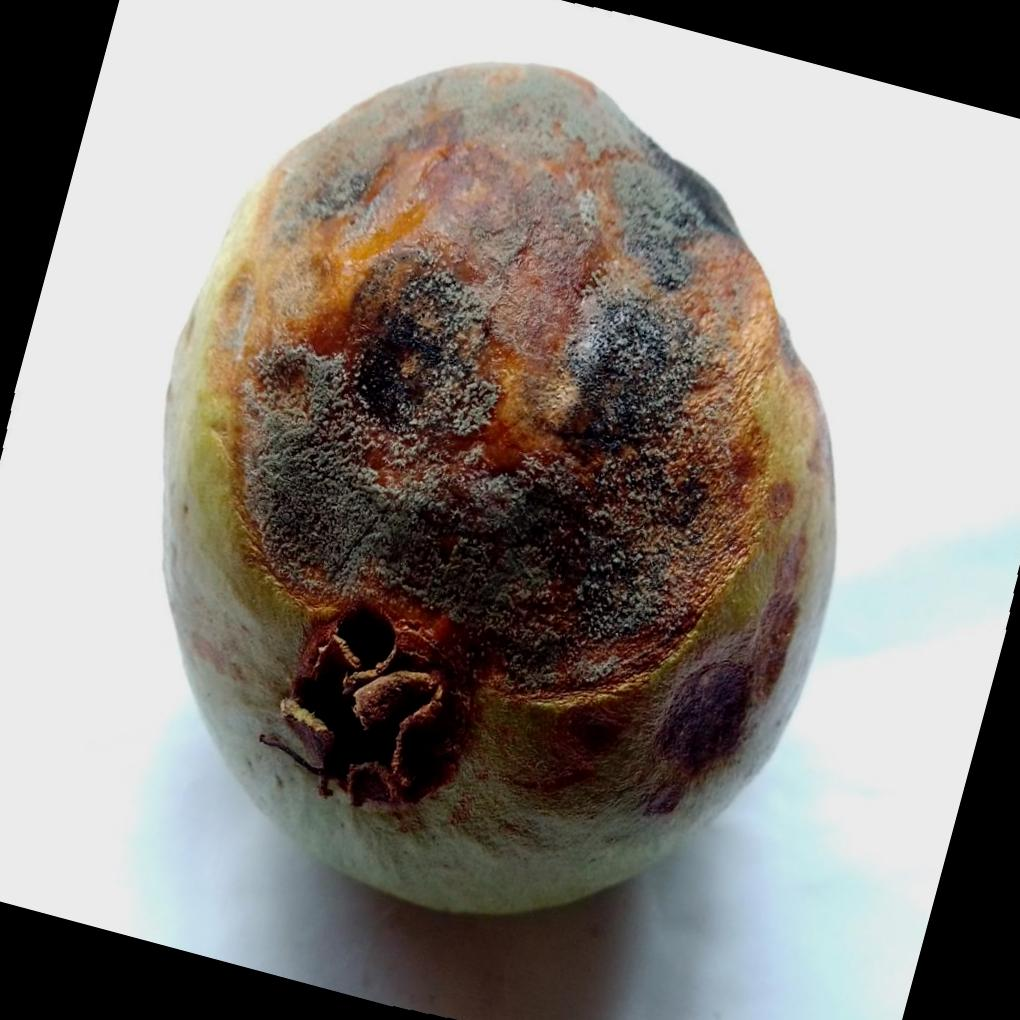FreshOrange: (158, 61, 836, 921)
